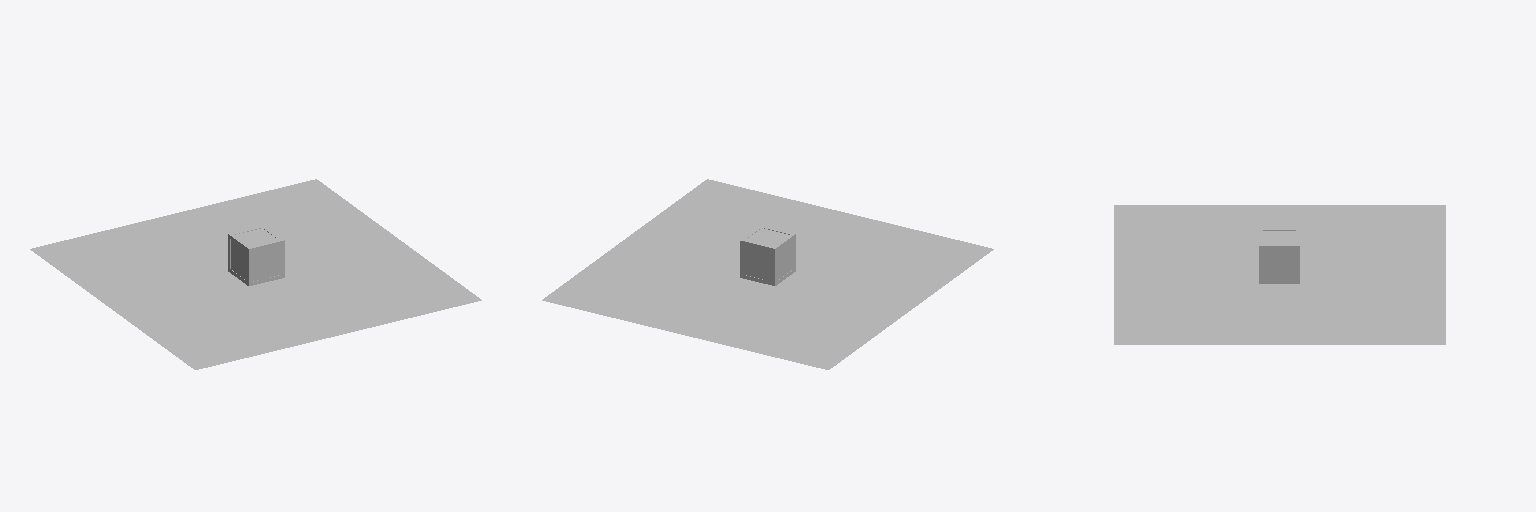
Rendered from crate.obj.
3 renders of one model, left to right at view 1: azimuth 30°, elevation 25°; view 2: azimuth 150°, elevation 25°; view 3: azimuth 270°, elevation 25°, orthographic.
Parts seen in each view (by area): view 1: Plane, Cube; view 2: Plane, Cube; view 3: Plane, Cube.
Part boxes in pixels (bbox=[...]): Plane: bbox=[30, 179, 481, 369]; Cube: bbox=[228, 225, 284, 285]; Plane: bbox=[542, 179, 993, 369]; Cube: bbox=[740, 225, 795, 285]; Plane: bbox=[1114, 205, 1445, 344]; Cube: bbox=[1259, 229, 1299, 283].
Bounding box in the file's own units: 16.09 × 2.01 × 16.09.